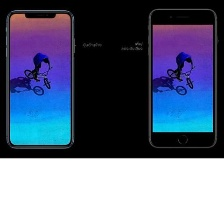phone: (2, 6, 77, 152), (145, 4, 219, 151)
